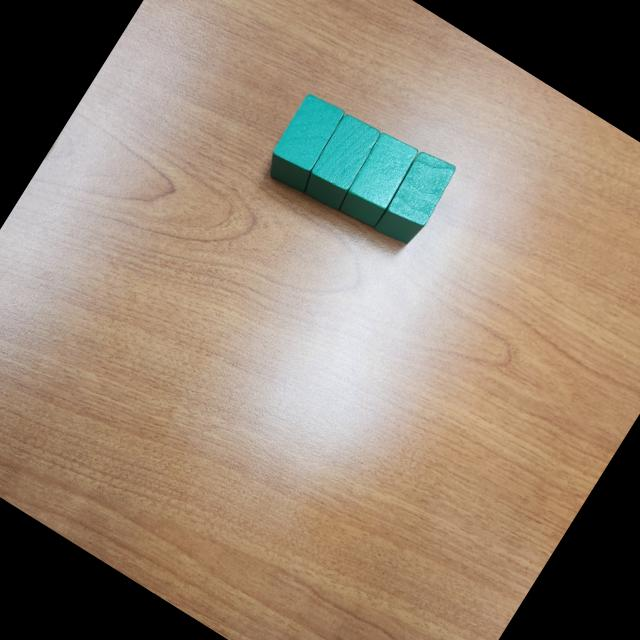green: (258, 87, 352, 198), (370, 145, 460, 252), (296, 108, 386, 213), (333, 127, 422, 231)
